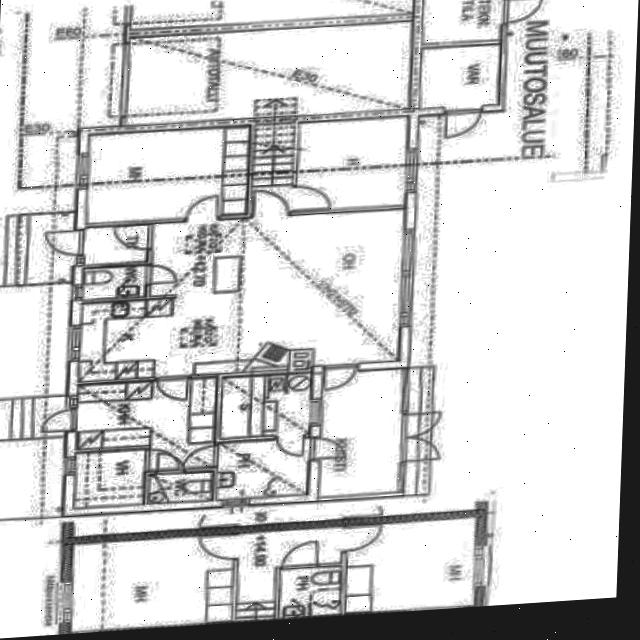room: (65, 534, 239, 632), (80, 125, 254, 223), (339, 518, 482, 613), (290, 116, 412, 212), (318, 366, 402, 499), (72, 377, 219, 449), (217, 373, 313, 439), (213, 438, 311, 500), (415, 45, 503, 109), (70, 449, 147, 508), (275, 566, 342, 618), (82, 224, 149, 265), (81, 265, 147, 300)
